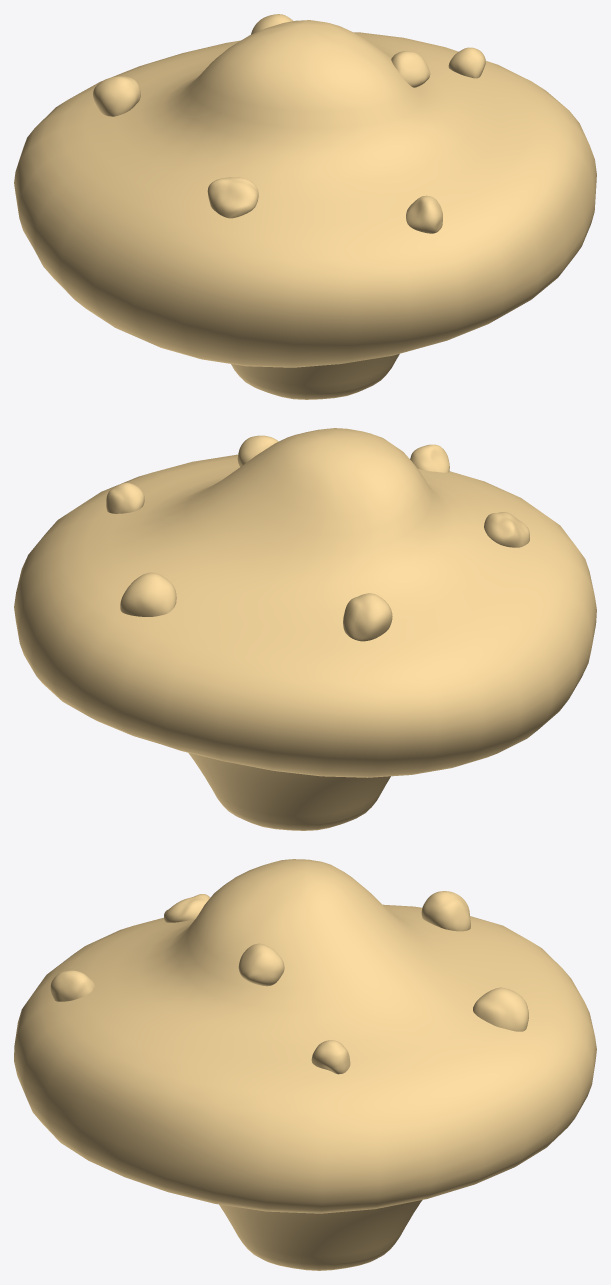
Rendered from Yellow mushroom.fbx.
3 views of the same model, one above another, from view 1: azimuth 30°, elevation 25°; view 2: azimuth 150°, elevation 25°; view 3: azimuth 270°, elevation 25° (orthographic).
Parts seen in each view (by area): view 1: dried_mushroom.009; view 2: dried_mushroom.009; view 3: dried_mushroom.009.
Part boxes in pixels (x1,y1,x2,y2): dried_mushroom.009: (14, 14, 596, 399); dried_mushroom.009: (14, 428, 596, 830); dried_mushroom.009: (14, 859, 596, 1270).
Bounding box in the file's own units: 86.02 × 58.61 × 84.82.
